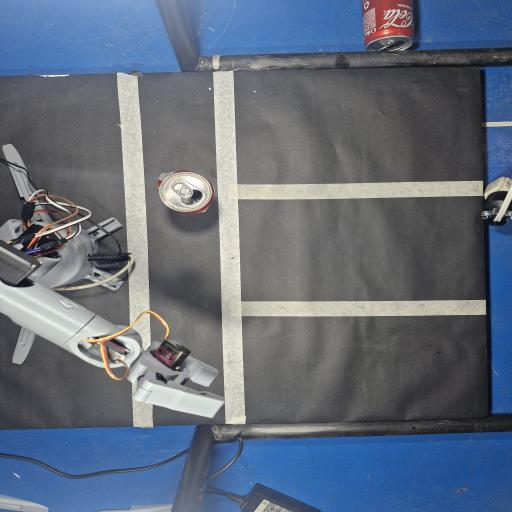lata_defectuoso: (158, 171, 214, 214)
